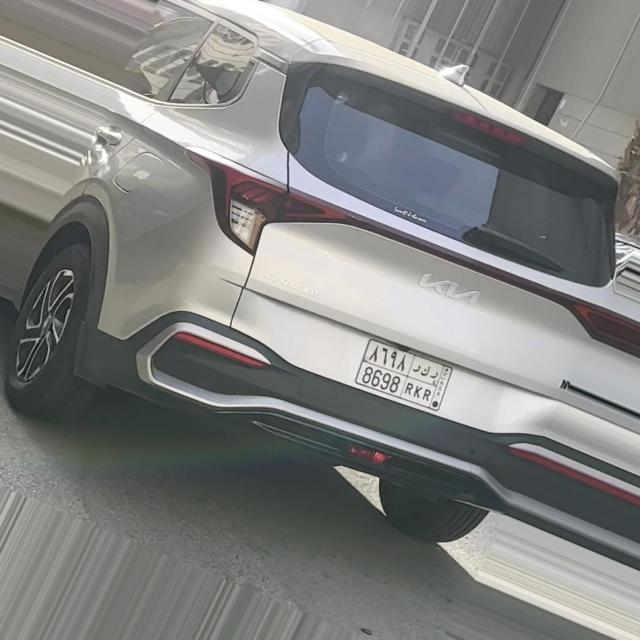Car-plate: (337, 329, 467, 419)
